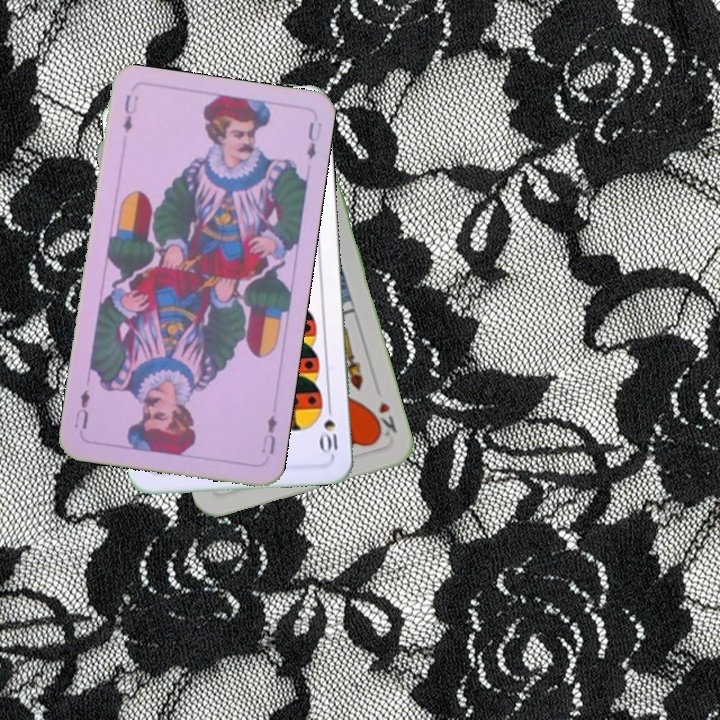EU: (257, 410, 280, 457), (119, 91, 141, 135)
HK: (368, 397, 400, 443)
S10: (318, 399, 340, 458)
